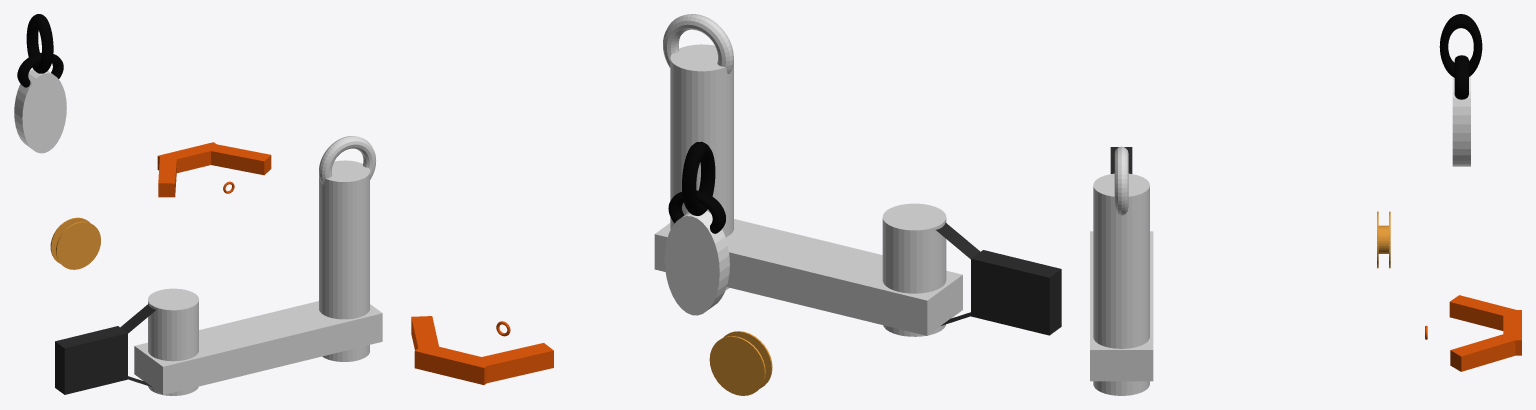
File: safeObject.fbx
The picture shows the model from 3 angles, left to right: view 1: azimuth 30°, elevation 25°; view 2: azimuth 150°, elevation 25°; view 3: azimuth 270°, elevation 25°; orthographic projection. The views are drawn at different scales.
Visible parts, largest first — view 1: Cube, Cylinder, Cube.001, Cylinder.001, Cylinder.005, Cylinder.002, Cube.002, Torus, Torus.001, Cube.003, Cube.004, Torus.002 (+2 smaller); view 2: Cube, Cylinder, Cube.001, Cylinder.001, Cylinder.005, Cylinder.003, Cube.003, Cube.004, Torus, Torus.001, Torus.002, Cube.002 (+2 smaller); view 3: Cylinder, Cube, Cube.002, Cube.004, Cylinder.005, Torus.001, Torus, Torus.002, Cube.003.
Boxes of the visible parts, box(x1,y1,x2,y2) form: Cube: box(134, 301, 382, 395); Cylinder: box(319, 160, 369, 361); Cube.001: box(55, 326, 127, 394); Cylinder.001: box(148, 288, 198, 395); Cylinder.005: box(14, 69, 66, 153); Cylinder.002: box(56, 221, 100, 269); Cube.002: box(206, 143, 271, 175); Torus: box(319, 136, 376, 184); Torus.001: box(26, 14, 53, 73); Cube.003: box(157, 142, 216, 173); Cube.004: box(158, 156, 176, 197); Torus.002: box(17, 52, 63, 87); Cube: box(654, 219, 962, 335); Cylinder: box(670, 44, 733, 289); Cube.001: box(971, 250, 1061, 335); Cylinder.001: box(882, 203, 946, 336); Cylinder.005: box(664, 211, 729, 315); Cylinder.003: box(709, 336, 765, 395); Cube.003: box(414, 347, 494, 384); Cube.004: box(475, 343, 553, 383); Torus: box(663, 14, 733, 73); Torus.001: box(682, 141, 715, 215); Torus.002: box(668, 190, 725, 233); Cube.002: box(411, 316, 439, 350); Cylinder: box(1093, 173, 1149, 395); Cube: box(1090, 231, 1153, 381); Cube.002: box(1450, 332, 1518, 371); Cube.004: box(1449, 295, 1519, 330); Cylinder.005: box(1452, 76, 1470, 166); Torus.001: box(1439, 14, 1482, 77); Torus: box(1114, 146, 1128, 215); Torus.002: box(1454, 55, 1468, 99); Cube.003: box(1503, 310, 1521, 355).
Size of the model in its own units: 1643 by 1121 by 1523.
